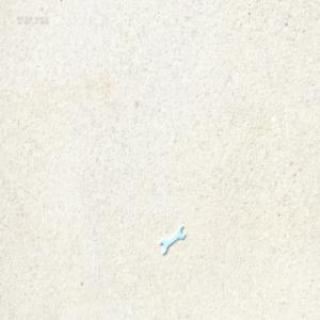Wrenchtrack_idkeyframe: (159, 226, 185, 256)
